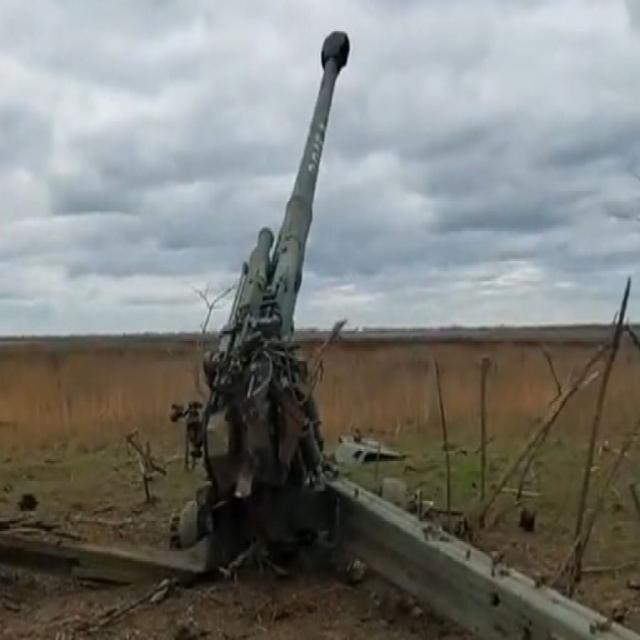ART: (172, 24, 362, 589)
